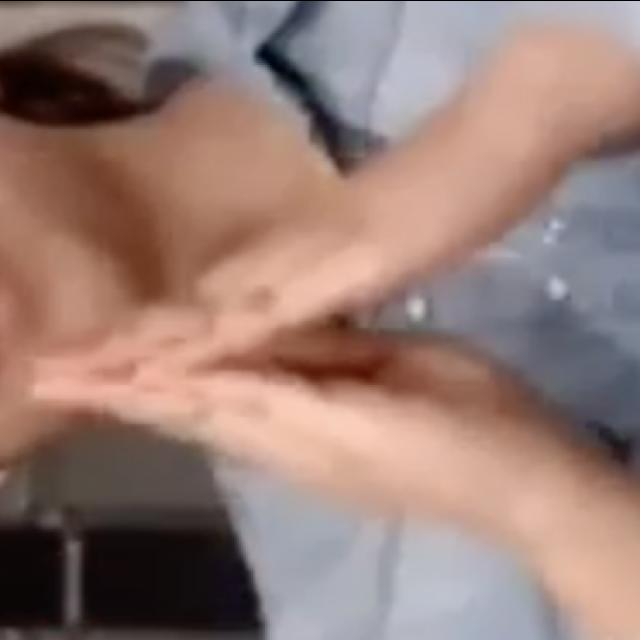casa: (25, 105, 609, 538)
